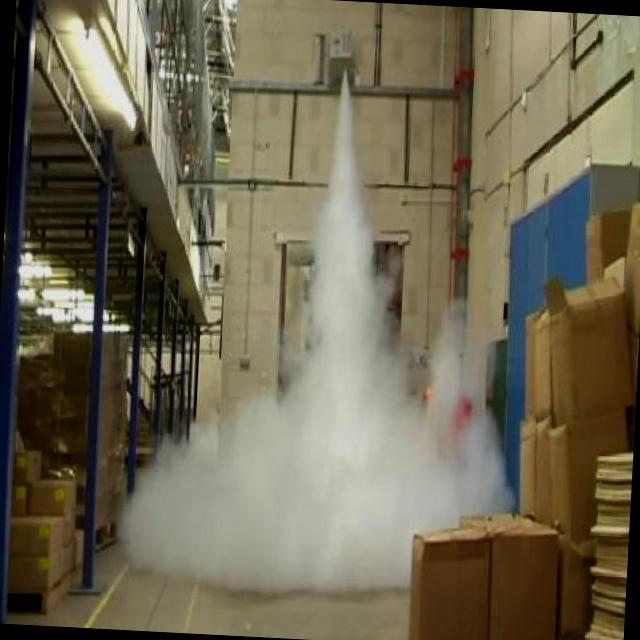smoke: (150, 56, 501, 596)
